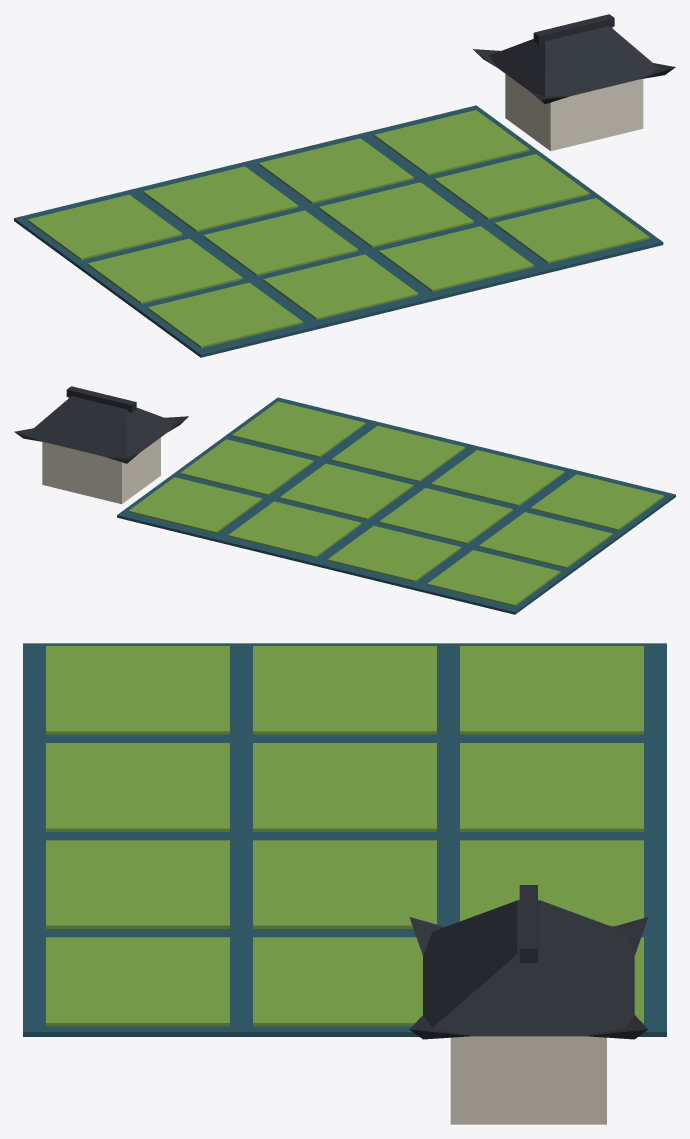
File: farm.glb
The picture shows the model from 3 angles, top to bottom: view 1: azimuth 30°, elevation 25°; view 2: azimuth 150°, elevation 25°; view 3: azimuth 270°, elevation 25°; orthographic projection. The views are drawn at different scales.
Visible parts, largest first — view 1: Farm; view 2: Farm; view 3: Farm.
Part boxes in pixels (bbox=[...]): Farm: bbox=[14, 14, 675, 357]; Farm: bbox=[14, 386, 675, 614]; Farm: bbox=[23, 643, 666, 1124].
Bounding box in the file's own units: 25.4 × 4.06 × 14.
